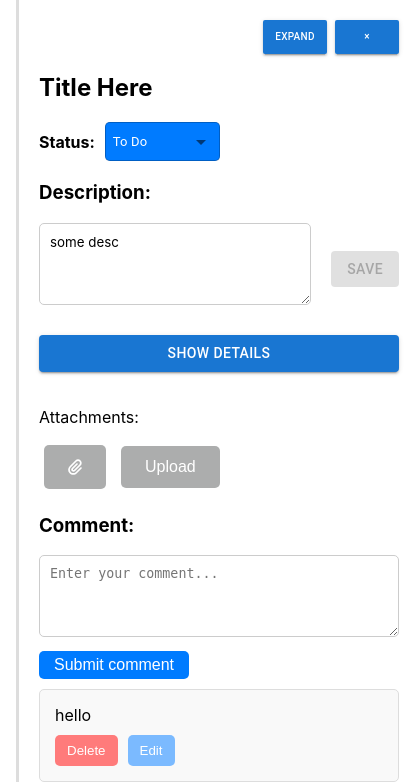
IssuePopup Component › can toggle between show/hide details
The width and height of the screenshot is (419, 782).
// click on the Show Details button
Click the button with test id "show-hide-details-button".
click(219, 353)  # box [39, 335, 399, 372]
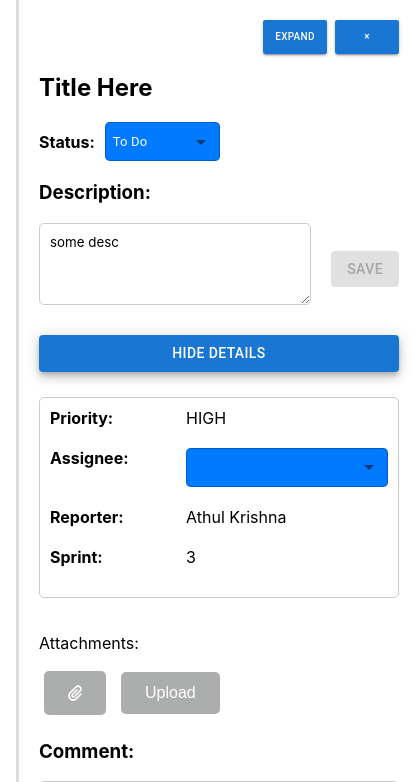
expect the element with test id "details-content" is shown: met, box [39, 397, 399, 598]
